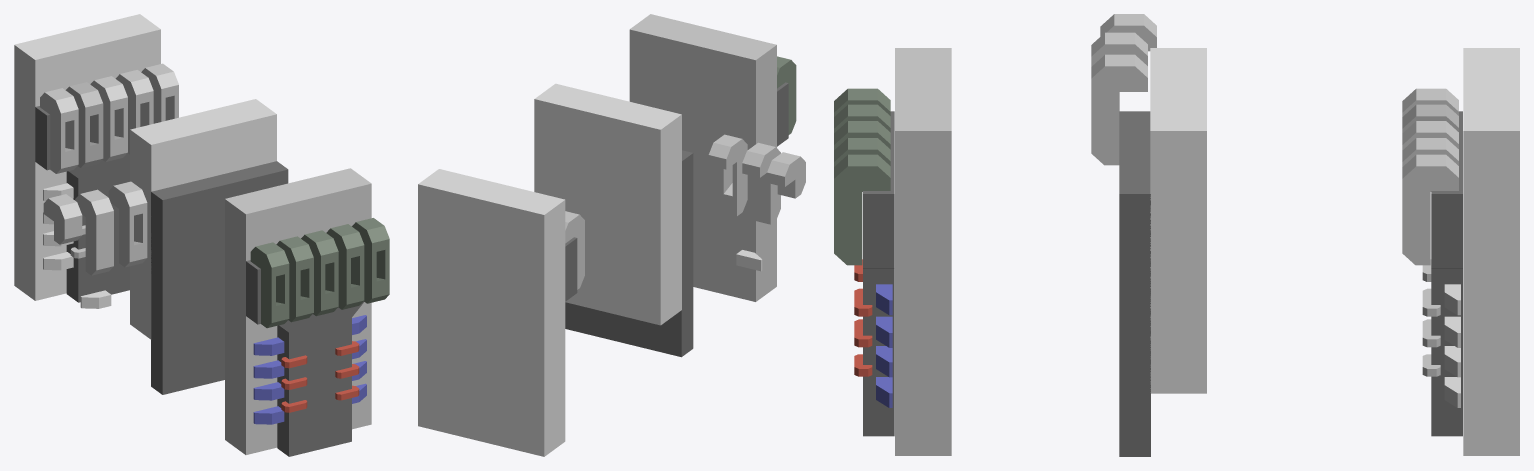
Rendered from scifi_elements1.fbx.
3 renders of one model, left to right at view 1: azimuth 30°, elevation 25°; view 2: azimuth 150°, elevation 25°; view 3: azimuth 270°, elevation 25°, orthographic. The views are drawn at different scales.
Visible parts, largest first — view 1: Cube.017, Cube.003, Cube.035, Cube.004, Cube.002, Cube.008, Cube.007, Cube.001, Cube.031, Cube.032, Cube.033, Cube.034 (+3 smaller); view 2: Cube.035, Cube.004, Cube.017, Cube.003, Cube.008, Cube.001, Cube, Cube.007, Cube.002, Cube.030; view 3: Cube.017, Cube.035, Cube.004, Cube.003, Cube.002, Cube.008, Cube.034, Cube.001, Cube, Cube.032, Cube.033, Cube.031 (+1 smaller).
Part boxes in pixels (<box>): Cube.017: <box>225,168,389,456</box>; Cube.003: <box>151,161,288,394</box>; Cube.035: <box>14,14,160,300</box>; Cube.004: <box>130,99,276,339</box>; Cube.002: <box>35,106,129,302</box>; Cube.008: <box>108,181,147,267</box>; Cube.007: <box>40,88,78,173</box>; Cube.001: <box>75,189,113,275</box>; Cube.031: <box>65,82,103,167</box>; Cube.032: <box>90,76,127,161</box>; Cube.033: <box>115,70,153,154</box>; Cube.034: <box>141,63,178,123</box>; Cube.035: <box>418,169,565,456</box>; Cube.004: <box>534,83,681,325</box>; Cube.017: <box>629,14,796,301</box>; Cube.003: <box>565,150,693,357</box>; Cube.008: <box>708,134,747,216</box>; Cube.001: <box>742,142,780,224</box>; Cube: <box>767,152,805,198</box>; Cube.007: <box>565,211,584,289</box>; Cube.002: <box>565,237,577,301</box>; Cube.030: <box>736,250,762,271</box>; Cube.017: <box>834,48,951,455</box>; Cube.035: <box>1463,48,1519,455</box>; Cube.004: <box>1150,48,1206,393</box>; Cube.003: <box>1119,111,1150,456</box>; Cube.002: <box>1431,111,1462,436</box>; Cube.008: <box>1091,54,1147,165</box>; Cube.034: <box>1402,154,1458,265</box>; Cube.001: <box>1091,32,1147,66</box>; Cube: <box>1100,14,1156,51</box>; Cube.032: <box>1402,121,1458,149</box>; Cube.033: <box>1402,138,1458,166</box>; Cube.031: <box>1402,104,1458,132</box>.
Size of the model in its own units: 1269 by 1269 by 2419.
